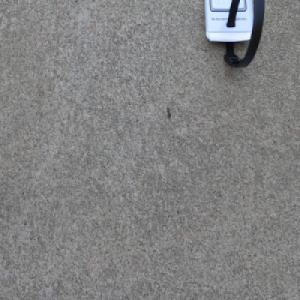LuggageTag: (201, 0, 264, 73)
